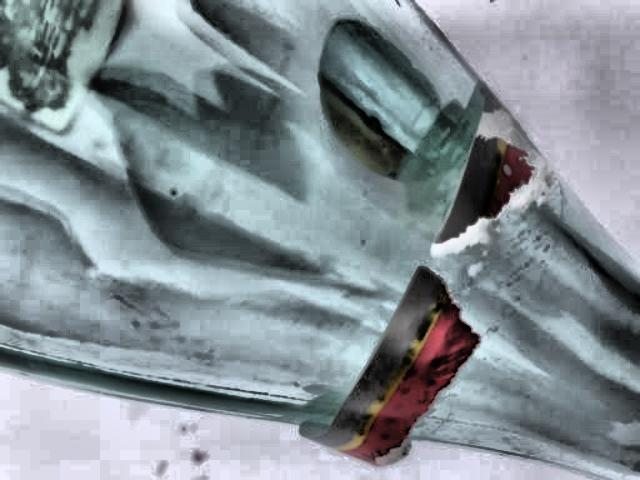Bottles: (1, 5, 640, 480)
